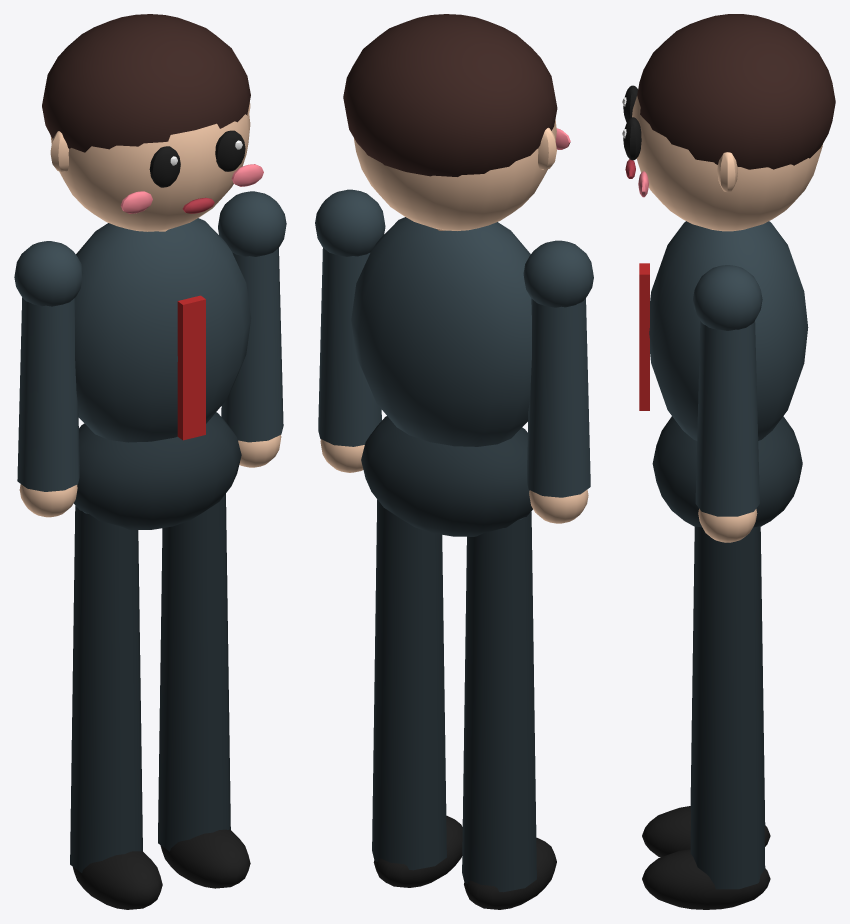
File: cameos_business.glb
3 renders of one model, left to right at view 1: azimuth 30°, elevation 25°; view 2: azimuth 150°, elevation 25°; view 3: azimuth 270°, elevation 25°, orthographic. The views are drawn at different scales.
Parts seen in each view (by area): view 1: Body.010, Leg_R.010, Leg_L.010, Arm_R.010, Arm_L.010; view 2: Body.010, Leg_R.010, Leg_L.010, Arm_R.010, Arm_L.010; view 3: Body.010, Leg_L.010, Arm_L.010, Leg_R.010.
Boxes of the visible parts, x1,y1,x2,y2 form: Body.010: (42, 14, 263, 530); Leg_R.010: (70, 505, 162, 909); Leg_L.010: (158, 494, 250, 888); Arm_R.010: (14, 241, 82, 517); Arm_L.010: (218, 191, 286, 467); Body.010: (343, 14, 570, 536); Leg_R.010: (462, 511, 556, 909); Leg_L.010: (372, 499, 462, 887); Arm_R.010: (523, 240, 593, 523); Arm_L.010: (315, 189, 385, 472); Body.010: (622, 14, 835, 527); Leg_L.010: (642, 526, 770, 909); Arm_L.010: (693, 265, 762, 542); Leg_R.010: (642, 527, 770, 857).
Bounding box in the file's own units: 0.57 × 1.76 × 0.3981.
